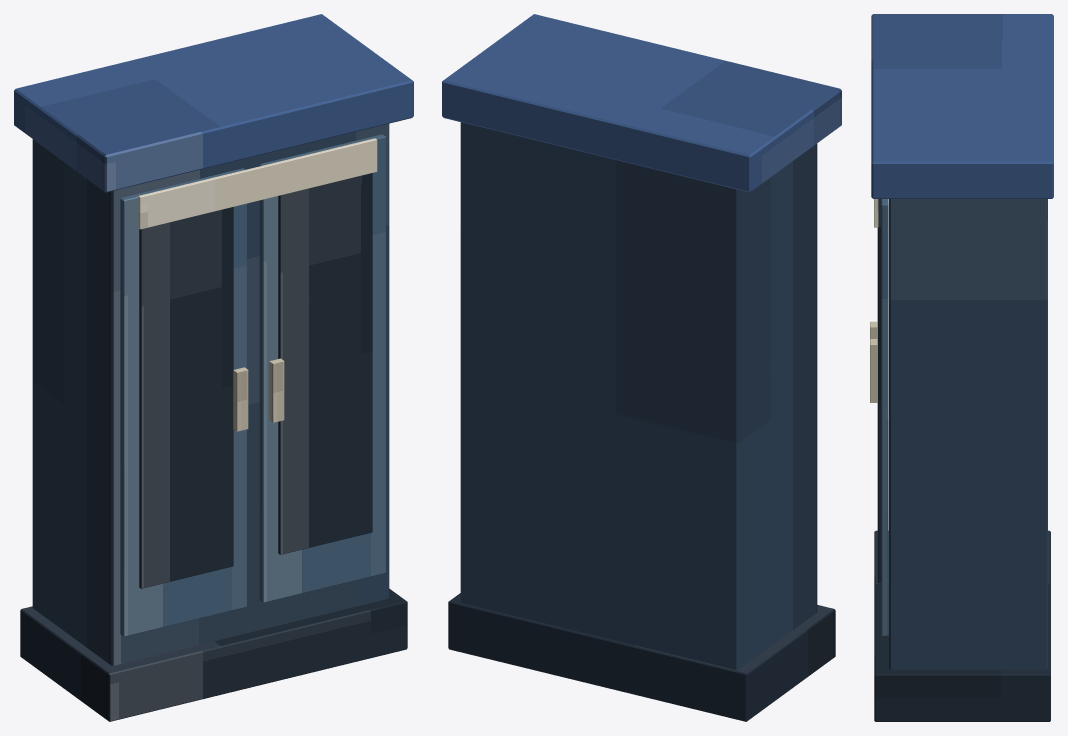
Rendered from bedroom_wardrobe_navy.glb.
3 views of the same model, side by side, from view 1: azimuth 30°, elevation 25°; view 2: azimuth 150°, elevation 25°; view 3: azimuth 270°, elevation 25° (orthographic).
Visible parts, largest first — view 1: WardrobeBody, WardrobeCrown, WardrobeInset_1, WardrobeInset_2, WardrobePlinth, WardrobeDoor_1, WardrobeDoor_2, WardrobeCarvedBand, WardrobeHandle_1, WardrobeHandle_2; view 2: WardrobeBody, WardrobeCrown, WardrobePlinth; view 3: WardrobeBody, WardrobeCrown, WardrobePlinth, WardrobeDoor_2, WardrobeInset_2, WardrobeHandle_2.
Part boxes in pixels (x1=…): WardrobeBody: x1=32, y1=123, x2=389, y2=665; WardrobeCrown: x1=14, y1=14, x2=413, y2=192; WardrobeInset_1: x1=139, y1=207, x2=233, y2=588; WardrobeInset_2: x1=278, y1=173, x2=372, y2=554; WardrobePlinth: x1=20, y1=588, x2=407, y2=721; WardrobeDoor_1: x1=120, y1=168, x2=246, y2=636; WardrobeDoor_2: x1=259, y1=134, x2=385, y2=602; WardrobeCarvedBand: x1=138, y1=138, x2=377, y2=229; WardrobeHandle_1: x1=233, y1=367, x2=248, y2=431; WardrobeHandle_2: x1=269, y1=358, x2=284, y2=422; WardrobeBody: x1=460, y1=122, x2=817, y2=669; WardrobeCrown: x1=442, y1=14, x2=841, y2=192; WardrobePlinth: x1=448, y1=593, x2=835, y2=721; WardrobeBody: x1=889, y1=199, x2=1047, y2=669; WardrobeCrown: x1=871, y1=14, x2=1053, y2=198; WardrobePlinth: x1=874, y1=530, x2=1050, y2=721; WardrobeDoor_2: x1=881, y1=199, x2=888, y2=635; WardrobeInset_2: x1=877, y1=199, x2=881, y2=583; WardrobeHandle_2: x1=870, y1=339, x2=877, y2=402.
Size of the model in its own units: 1.2 by 2.11 by 0.6245.
1 material, 1 textured.
